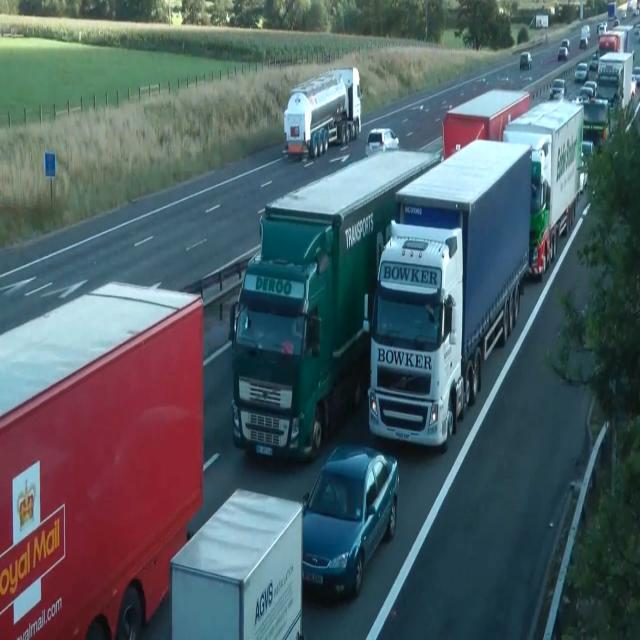bus: (301, 443, 399, 601), (365, 127, 399, 157), (549, 78, 567, 100), (581, 140, 595, 166), (574, 62, 588, 82), (520, 51, 532, 70), (583, 81, 597, 97), (578, 87, 592, 101), (631, 74, 639, 98), (558, 46, 568, 60), (597, 22, 607, 36), (554, 3, 562, 16), (588, 60, 598, 70), (579, 37, 587, 49), (633, 20, 639, 36), (561, 38, 569, 49), (612, 18, 620, 28)
minibus: (0, 278, 204, 639), (228, 147, 442, 462), (363, 137, 532, 450), (170, 487, 304, 639), (502, 98, 584, 280), (282, 66, 362, 160), (442, 88, 530, 161), (595, 49, 635, 114), (574, 96, 610, 150), (598, 27, 628, 57), (528, 14, 548, 28)
